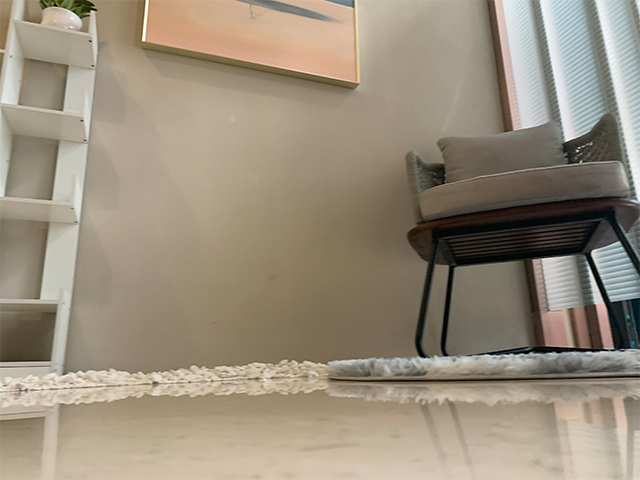carpet: (326, 349, 640, 380)
stool: (404, 110, 640, 360)
